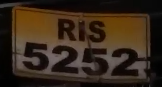RIS5252: (3, 1, 158, 87)
